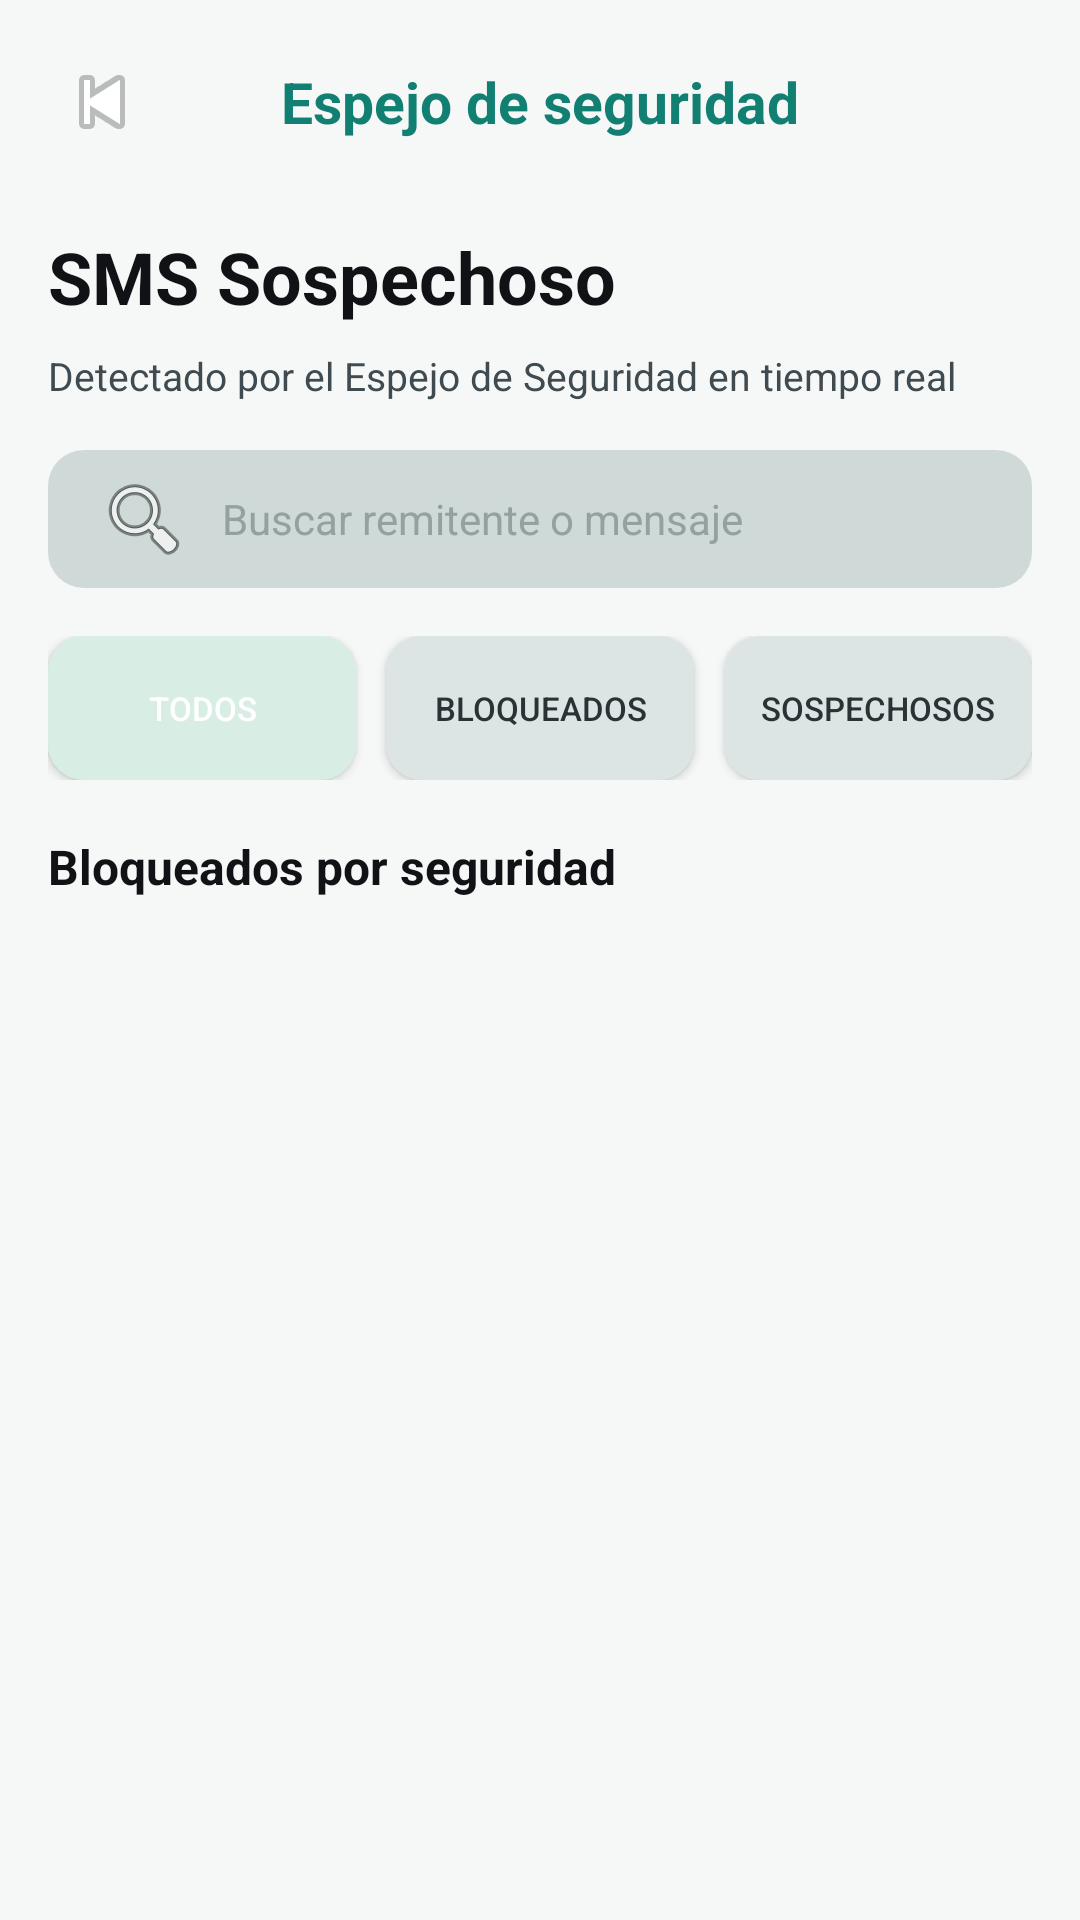

Icon bounding boxes for this 1080 × 1920 phone screenshot, format (x1, y1, x2, y2):
Volver: (79, 75, 125, 129)
